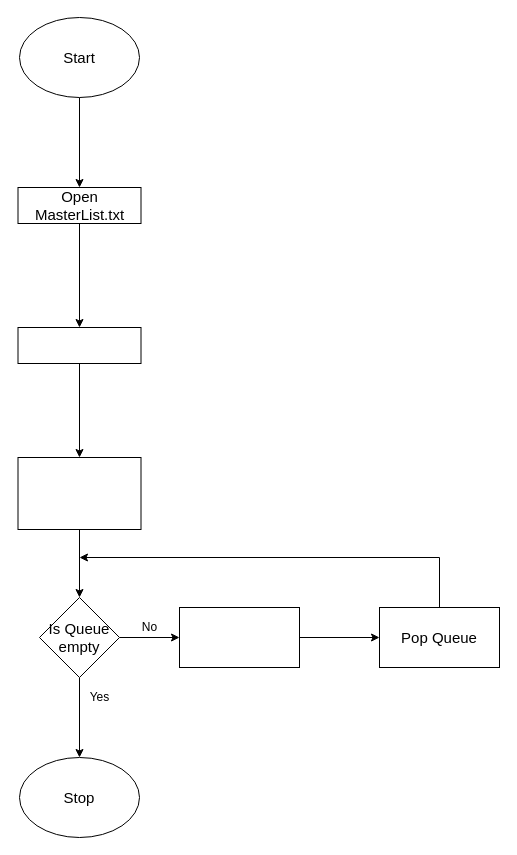
Some shapes in this 517 by 855 pixel diagram are drawn without their labels. The shapes that lost their labels are listed below. From the top down, each one's centre as x and y in pixels, then its label:
(79,345): Create a Queue for products
(79,493): Populate Queue with Products from MasterList.txt
(239,637): Print Queue's Front element
